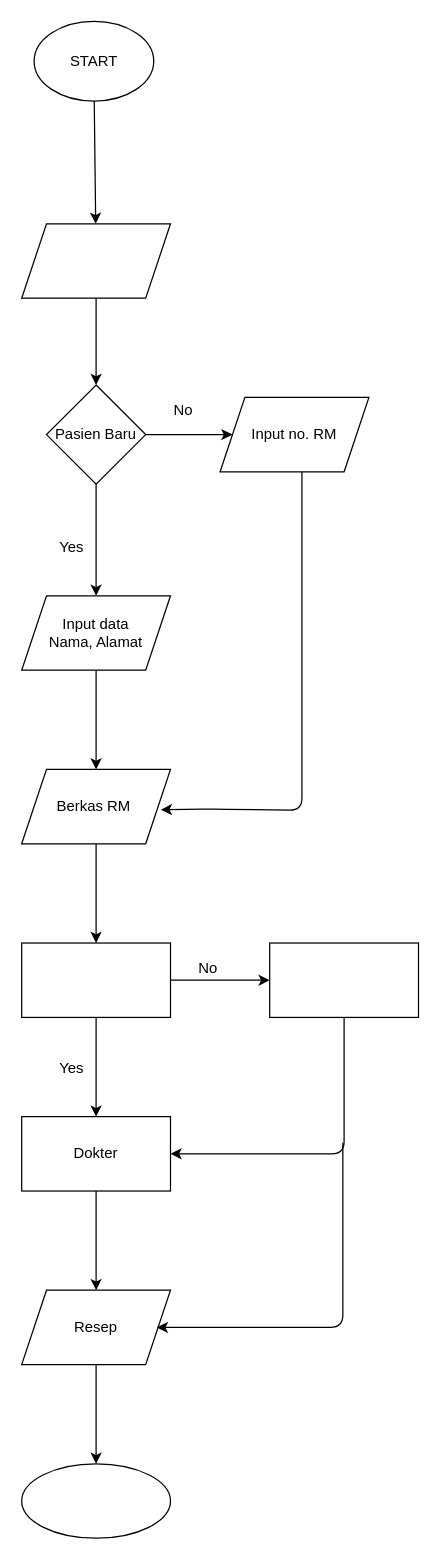
Image size: 440x1561. Some labels were removed from this diagram. The centre of each missing label's shape, as x and y in pixels:
END: pixel 95 1500
Login: pixel 95 260
Rawat Inap: pixel 343 979
Rawat Jalan: pixel 95 979
